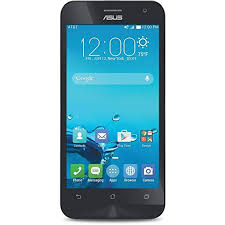asus: (54, 1, 172, 221)
